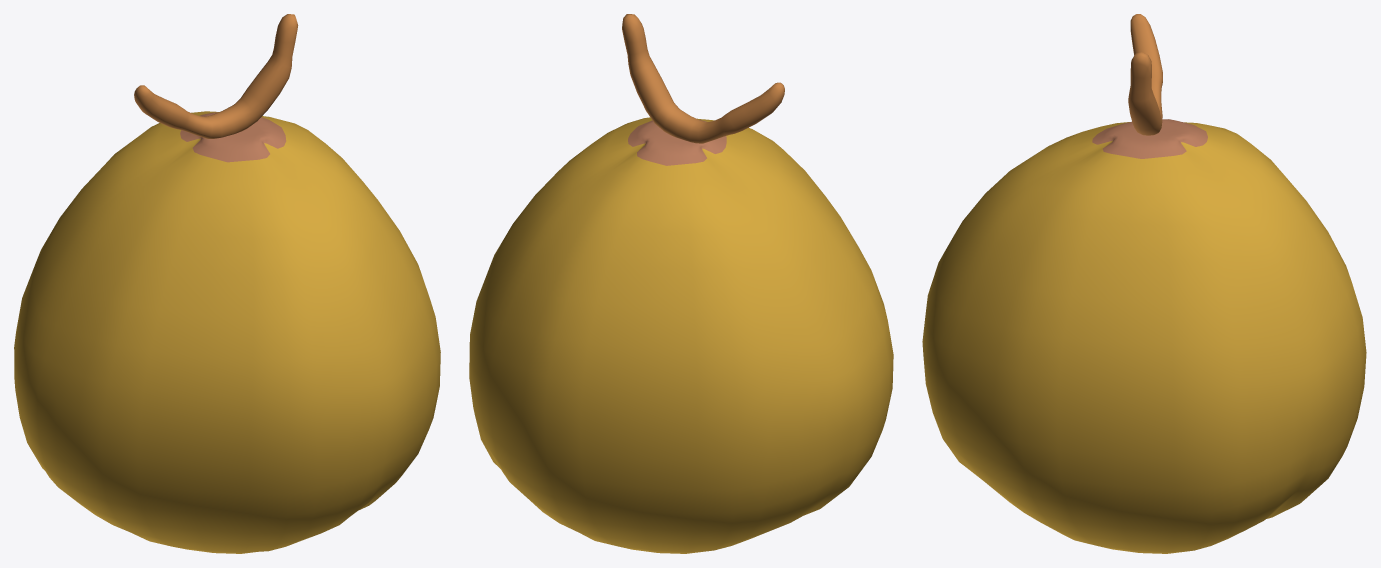
File: Coconut_02.dae
The picture shows the model from 3 angles, left to right: view 1: azimuth 30°, elevation 25°; view 2: azimuth 150°, elevation 25°; view 3: azimuth 270°, elevation 25°; orthographic projection.
Visible parts, largest first — view 1: Coconut_02_LOD0; view 2: Coconut_02_LOD0; view 3: Coconut_02_LOD0.
Boxes of the visible parts, <box> form: Coconut_02_LOD0: <box>14,14,440,553</box>; Coconut_02_LOD0: <box>469,14,893,553</box>; Coconut_02_LOD0: <box>922,14,1366,553</box>.
Size of what is drawn, in the model's own units: 4.9 by 5.12 by 6.34.
